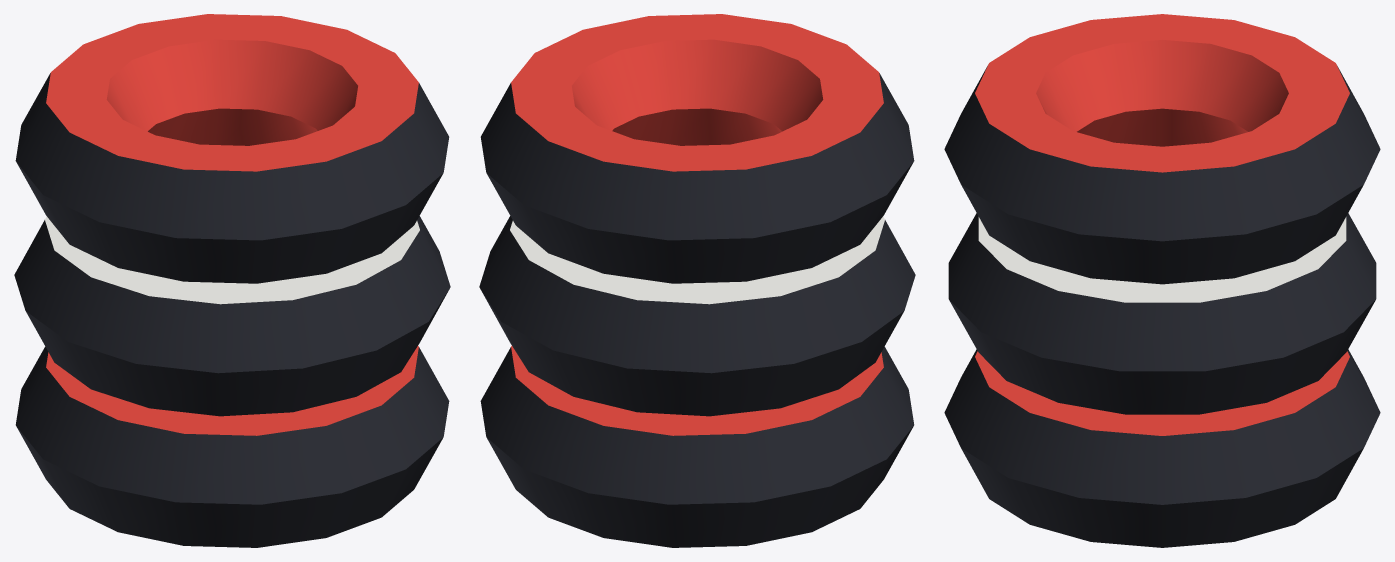
The model's file is TyreStack.fbx.
3 views of the same model, side by side, from view 1: azimuth 30°, elevation 25°; view 2: azimuth 150°, elevation 25°; view 3: azimuth 270°, elevation 25° (orthographic).
Visible parts, largest first — view 1: TyreStack; view 2: TyreStack; view 3: TyreStack.
Part boxes in pixels (x1,y1,x2,y2): TyreStack: [14, 14, 450, 547]; TyreStack: [479, 14, 915, 547]; TyreStack: [944, 14, 1380, 547].
Size of the model in its own units: 3 by 2.85 by 3.
1 material, 1 textured.
